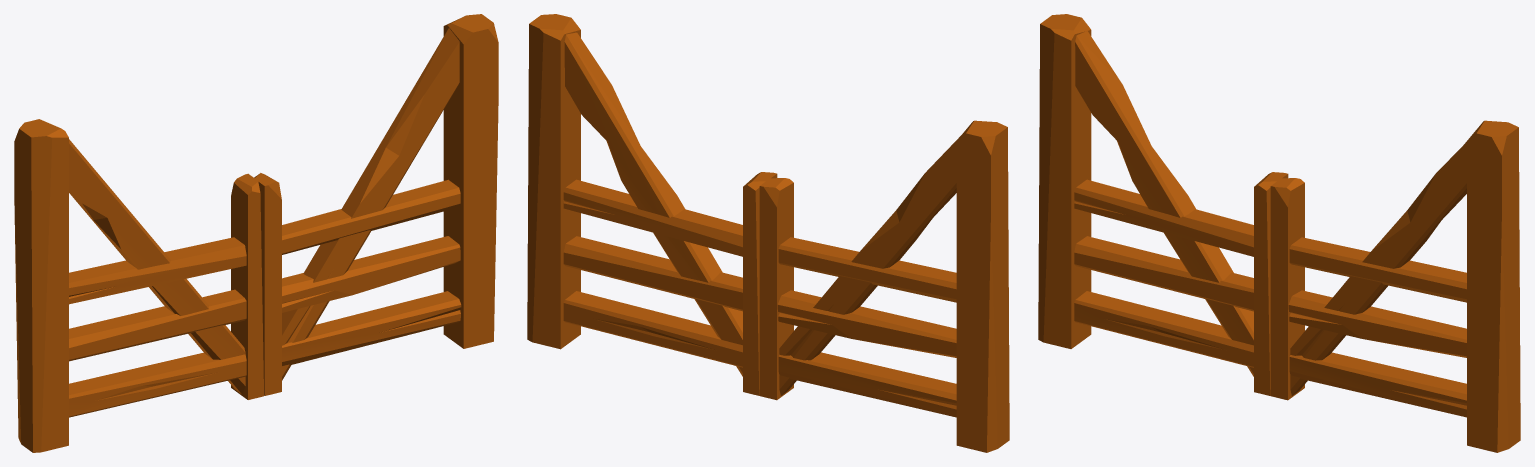
Rendered from Fence_4.fbx.
The picture shows the model from 3 angles, left to right: view 1: azimuth 30°, elevation 25°; view 2: azimuth 150°, elevation 25°; view 3: azimuth 330°, elevation 25°; orthographic projection.
Visible parts, largest first — view 1: Fence_4; view 2: Fence_4; view 3: Fence_4.
Part boxes in pixels (<box>): Fence_4: <box>14,14,498,452</box>; Fence_4: <box>527,14,1009,452</box>; Fence_4: <box>1038,14,1520,452</box>.
Size of the model in its own units: 63.5 by 41.05 by 4.85.
